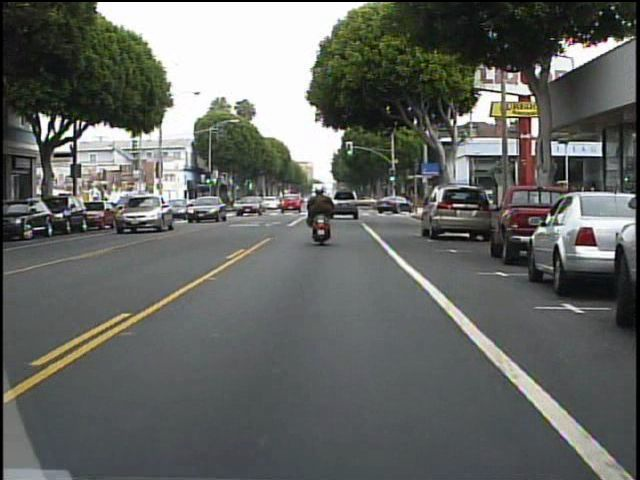person: (305, 181, 339, 243)
